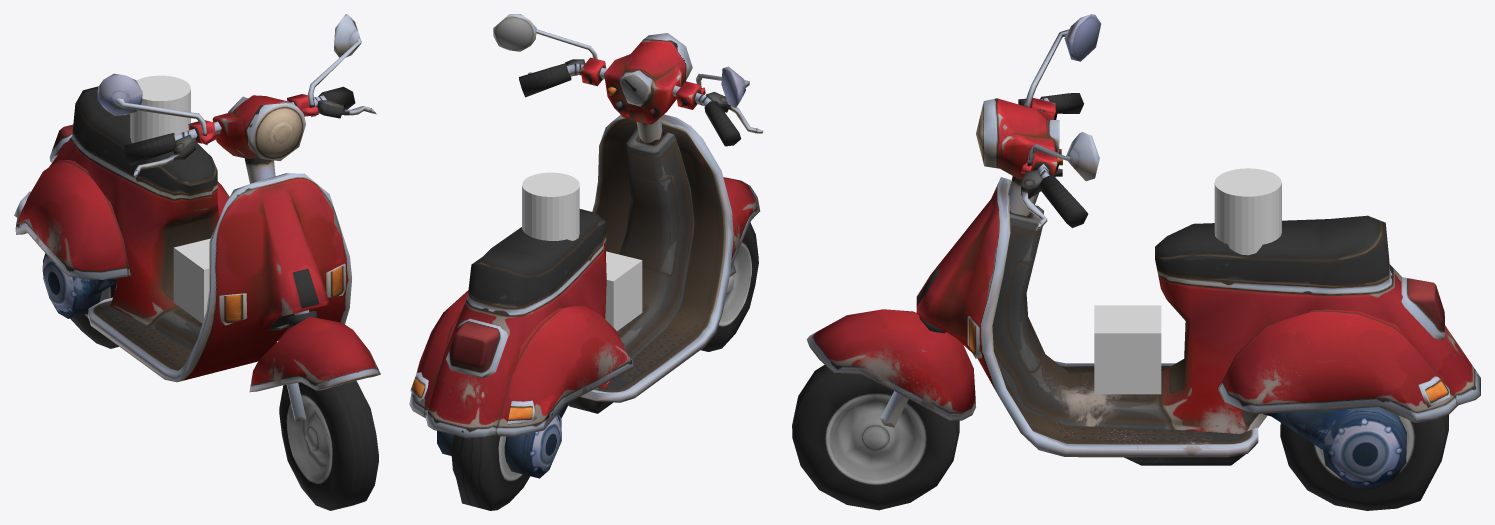
File: scooter-s.glb
3 renders of one model, left to right at view 1: azimuth 30°, elevation 25°; view 2: azimuth 150°, elevation 25°; view 3: azimuth 270°, elevation 25°, orthographic. The views are drawn at different scales.
Parts seen in each view (by area): view 1: Donut_Scooter_Gadget_3_0, TimeframeMainGroup.003, FrontWheel_Mesh, TimeframeMainGroup.002, Motor, Battery, TimeframeMainGroup.001, TimeframeMainGroup.005, TimeframeMainGroup.006, RearWheel_Mesh; view 2: Donut_Scooter_Gadget_3_0, TimeframeMainGroup.003, RearWheel_Mesh, Motor, FrontWheel_Mesh, TimeframeMainGroup.001, Battery, TimeframeMainGroup.002, TimeframeMainGroup.006, TimeframeMainGroup.005; view 3: Donut_Scooter_Gadget_3_0, FrontWheel_Mesh, TimeframeMainGroup.002, TimeframeMainGroup.003, TimeframeMainGroup.001, RearWheel_Mesh, Battery, Motor, TimeframeMainGroup.005, TimeframeMainGroup.006.
Boxes of the visible parts, left/top/right/bottom form: Donut_Scooter_Gadget_3_0: left=14, top=86, right=351, bottom=421; TimeframeMainGroup.003: left=115, top=38, right=376, bottom=183; FrontWheel_Mesh: left=279, top=381, right=378, bottom=510; TimeframeMainGroup.002: left=249, top=316, right=380, bottom=392; Motor: left=130, top=75, right=190, bottom=143; Battery: left=173, top=238, right=210, bottom=323; TimeframeMainGroup.001: left=42, top=253, right=116, bottom=318; TimeframeMainGroup.005: left=97, top=73, right=142, bottom=115; TimeframeMainGroup.006: left=334, top=14, right=361, bottom=57; RearWheel_Mesh: left=70, top=283, right=118, bottom=348; Donut_Scooter_Gadget_3_0: left=409, top=114, right=736, bottom=438; TimeframeMainGroup.003: left=519, top=29, right=763, bottom=146; RearWheel_Mesh: left=450, top=435, right=529, bottom=510; Motor: left=522, top=172, right=579, bottom=240; FrontWheel_Mesh: left=700, top=223, right=758, bottom=351; TimeframeMainGroup.001: left=437, top=402, right=569, bottom=478; Battery: left=605, top=251, right=642, bottom=330; TimeframeMainGroup.002: left=723, top=177, right=760, bottom=267; TimeframeMainGroup.006: left=493, top=14, right=536, bottom=51; TimeframeMainGroup.005: left=721, top=66, right=745, bottom=108; Donut_Scooter_Gadget_3_0: left=880, top=177, right=1480, bottom=465; FrontWheel_Mesh: left=792, top=364, right=959, bottom=510; TimeframeMainGroup.002: left=806, top=309, right=975, bottom=420; TimeframeMainGroup.003: left=976, top=29, right=1088, bottom=230; TimeframeMainGroup.001: left=1263, top=407, right=1406, bottom=489; RearWheel_Mesh: left=1280, top=415, right=1448, bottom=510; Battery: left=1094, top=305, right=1161, bottom=394; Motor: left=1214, top=168, right=1281, bottom=255; TimeframeMainGroup.005: left=1064, top=14, right=1101, bottom=61; TimeframeMainGroup.006: left=1066, top=132, right=1099, bottom=181.
Size of the model in its own units: 0.9898 by 1.42 by 2.06.
8 materials, 8 textured.
